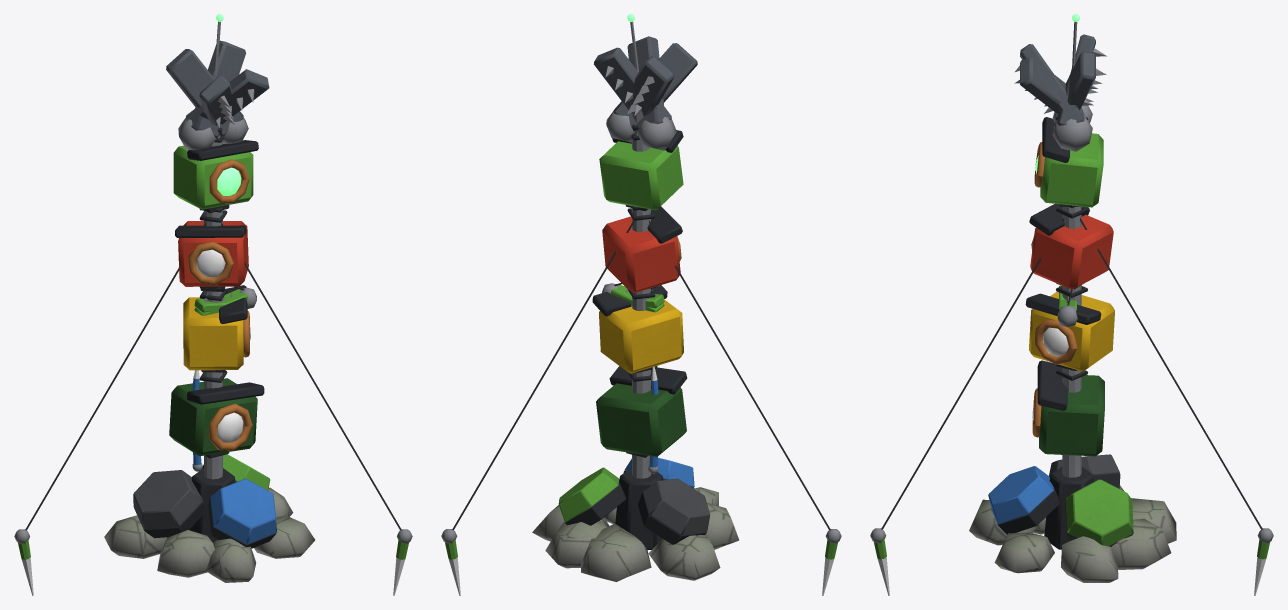
The model's file is scuttler_totem.glb.
3 views of the same model, side by side, from view 1: azimuth 30°, elevation 25°; view 2: azimuth 150°, elevation 25°; view 3: azimuth 270°, elevation 25° (orthographic).
Parts seen in each view (by area): view 1: scuttler_totem.001; view 2: scuttler_totem.001; view 3: scuttler_totem.001.
Part boxes in pixels (x1,y1,x2,y2): scuttler_totem.001: (14, 14, 412, 595); scuttler_totem.001: (441, 14, 841, 595); scuttler_totem.001: (870, 14, 1273, 595).
Size of the model in its own units: 4.31 by 7.35 by 4.97.
20 materials, 18 textured.
